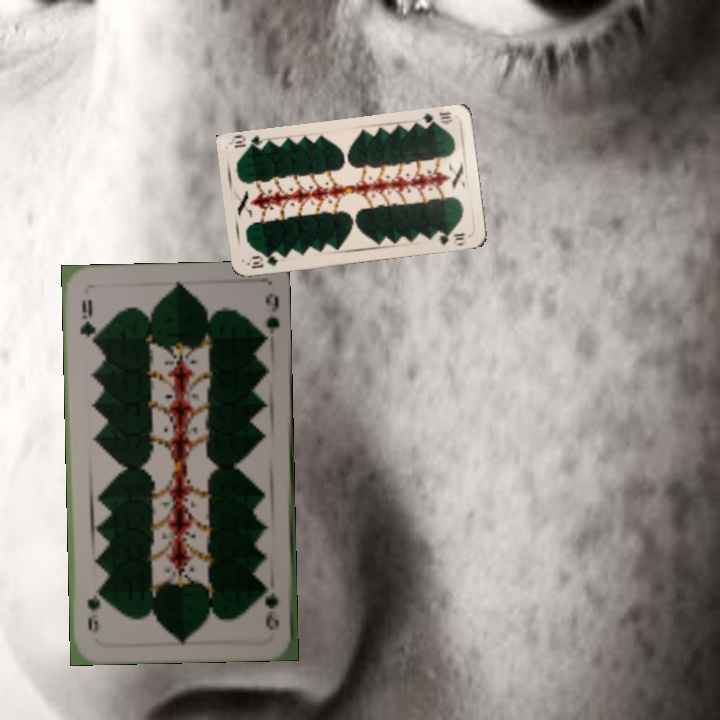G10: (418, 108, 455, 130), (248, 251, 281, 271)
G9: (75, 295, 97, 345), (261, 579, 281, 633)
